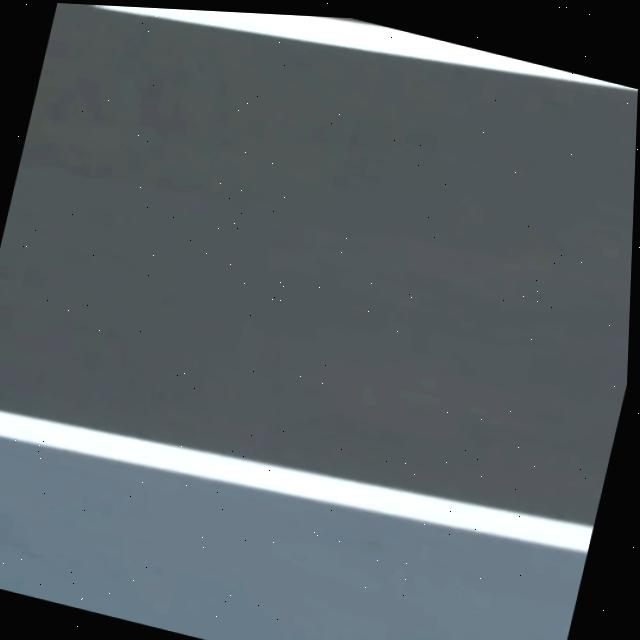center: (91, 5, 638, 92)
left: (0, 411, 594, 555)
